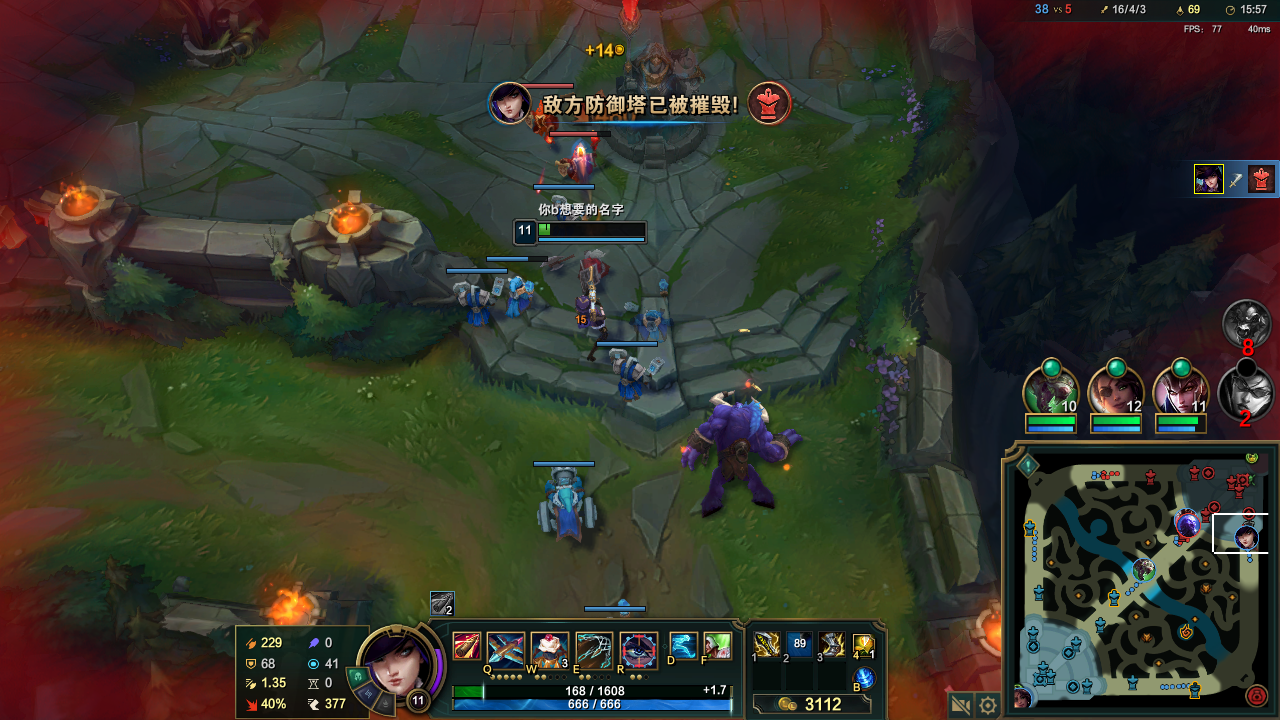DFXB: (557, 144, 600, 181), (527, 109, 558, 139)
WFXB: (540, 469, 595, 532), (609, 348, 649, 397), (498, 270, 537, 313), (466, 291, 495, 322)
